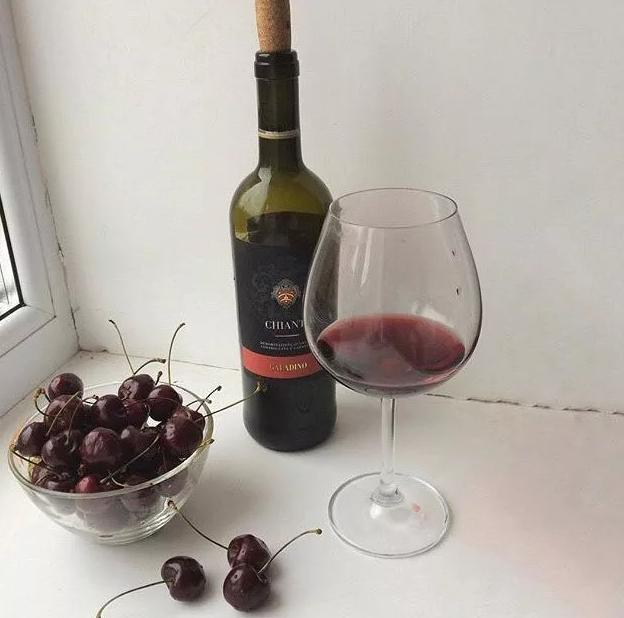wine bottle: (229, 47, 342, 452)
wine label: (233, 233, 331, 379)
